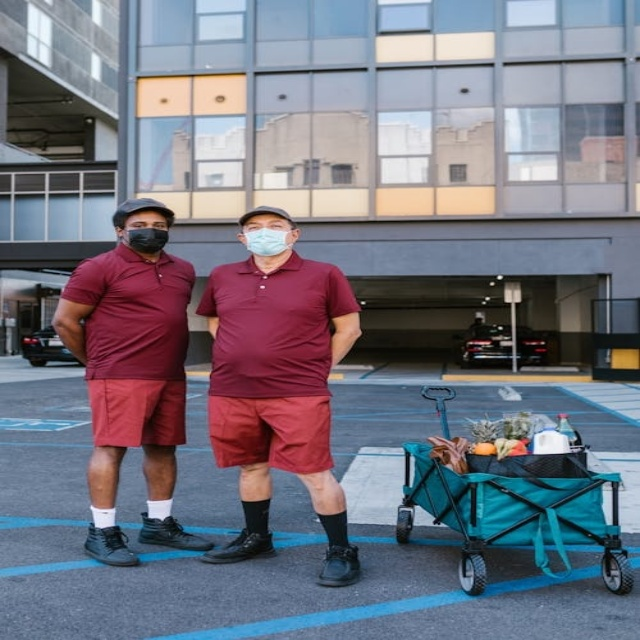Mascara: (242, 227, 292, 256), (122, 227, 169, 252)
Sin_gafas: (124, 219, 170, 230), (243, 220, 288, 230)
